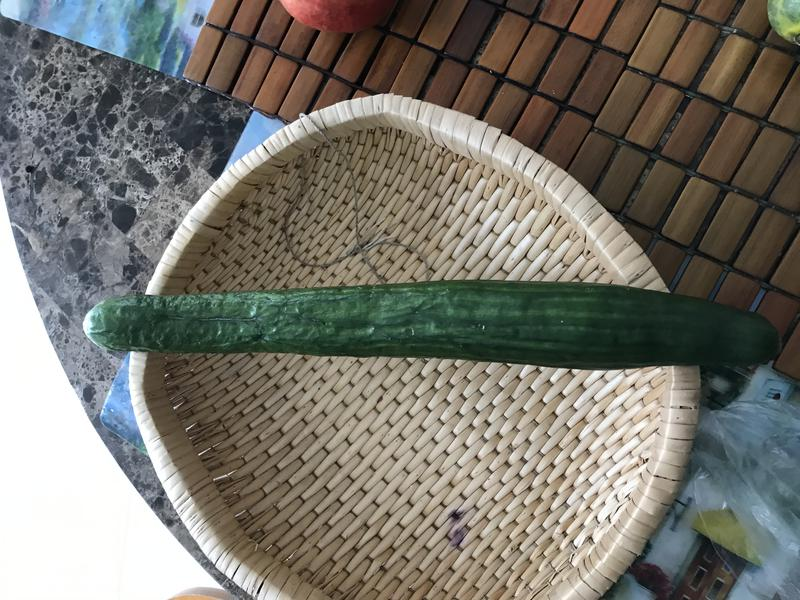avacado: (78, 273, 787, 383)
cucumber: (79, 277, 782, 382)
